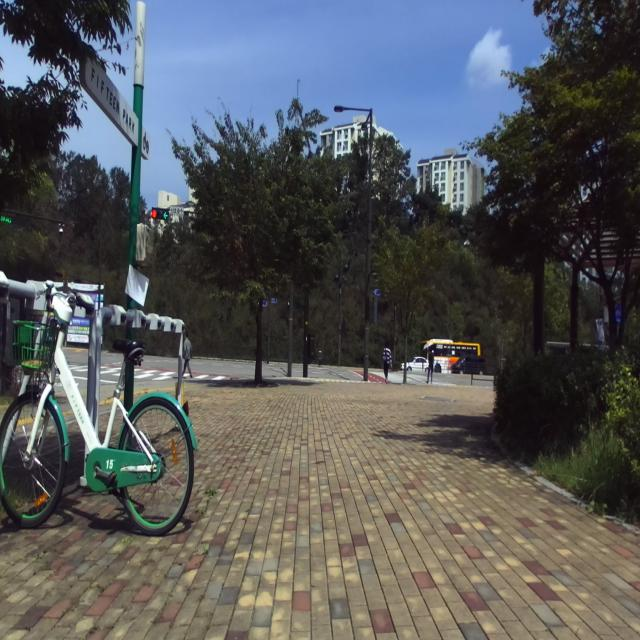횡단보도: (368, 371, 457, 386)
